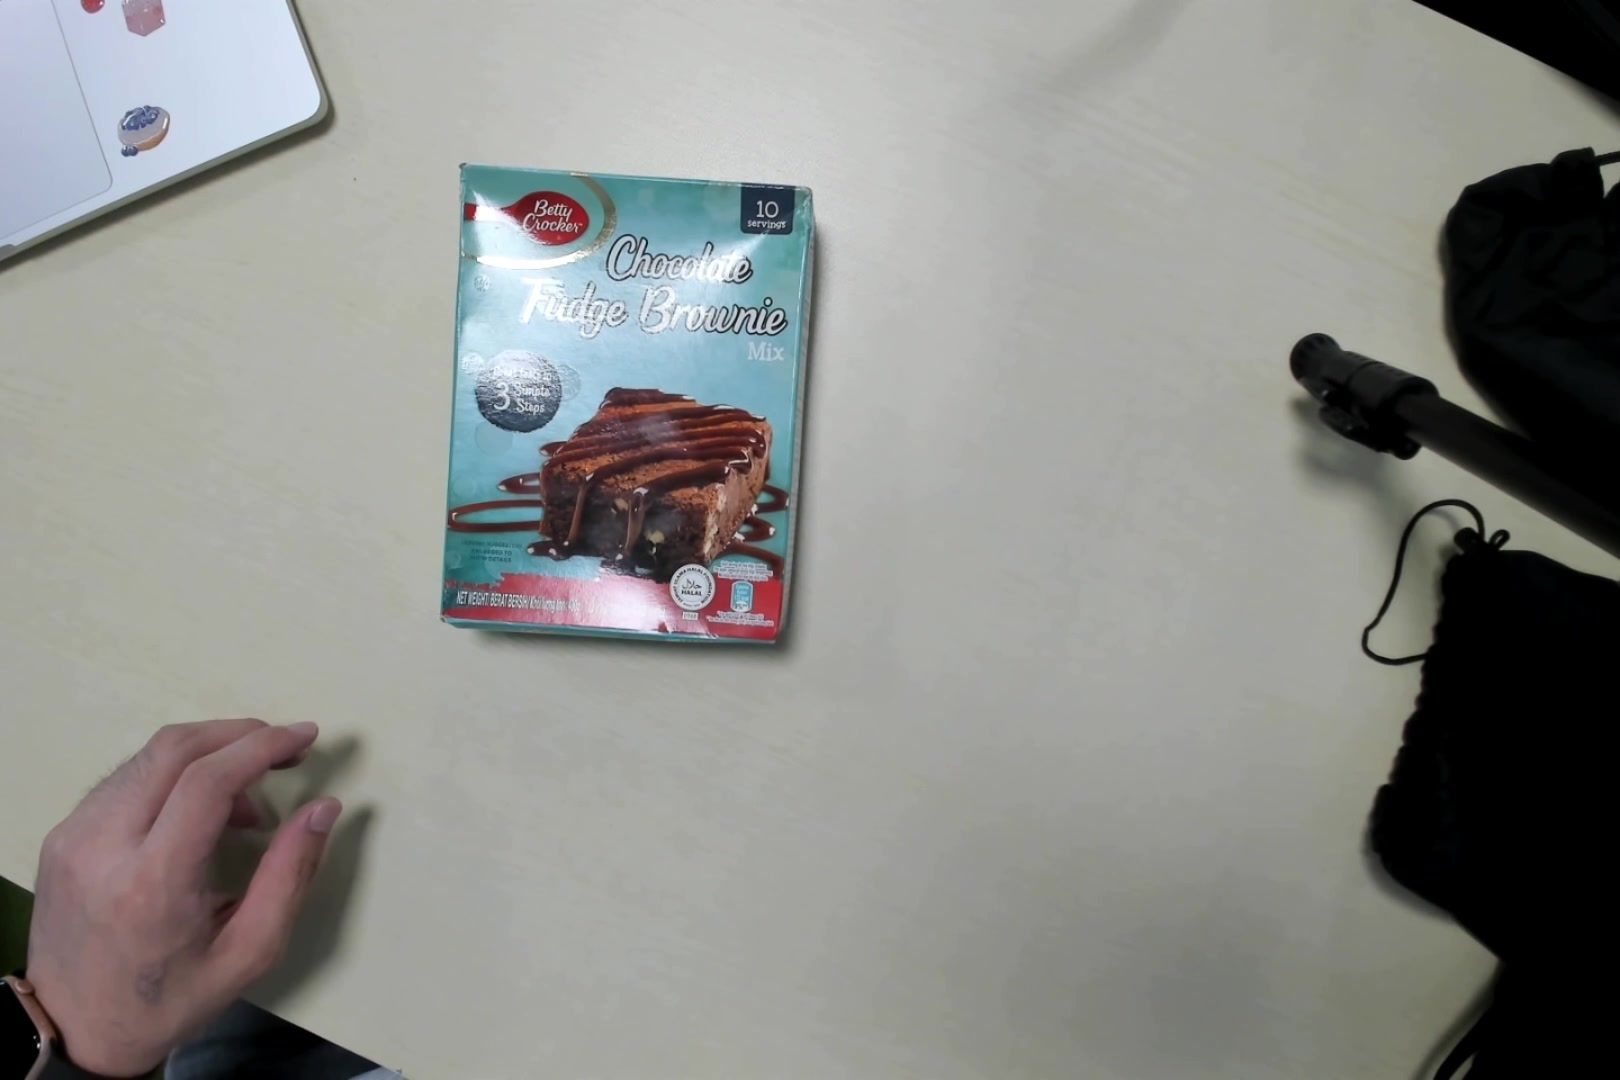OtherBakingNeeds_400-499g_Halal_NonHealthy: (435, 163, 824, 659)
